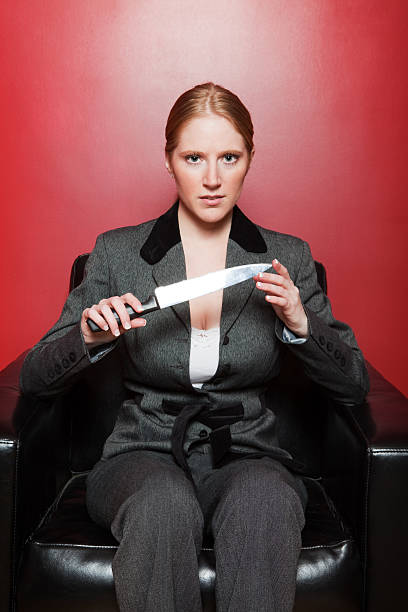knife: (87, 261, 278, 335)
